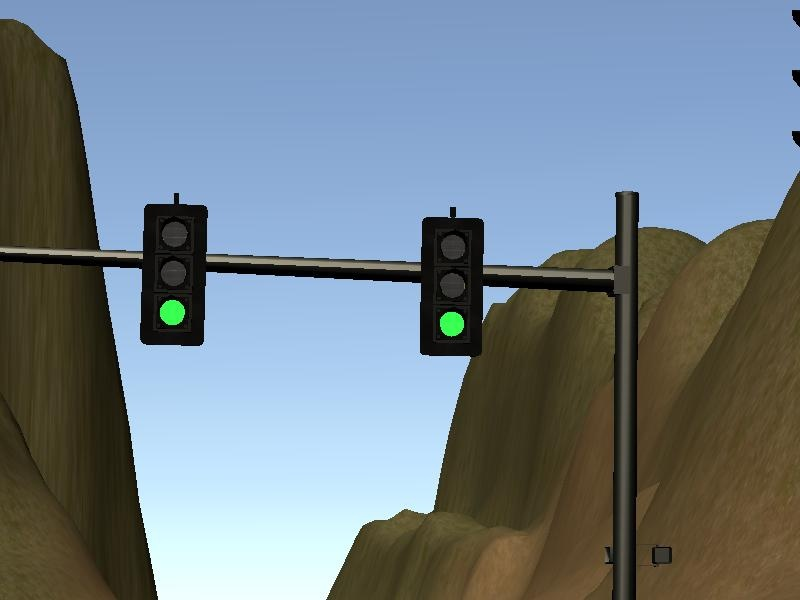GREEN: (141, 205, 207, 347), (419, 217, 485, 359)
